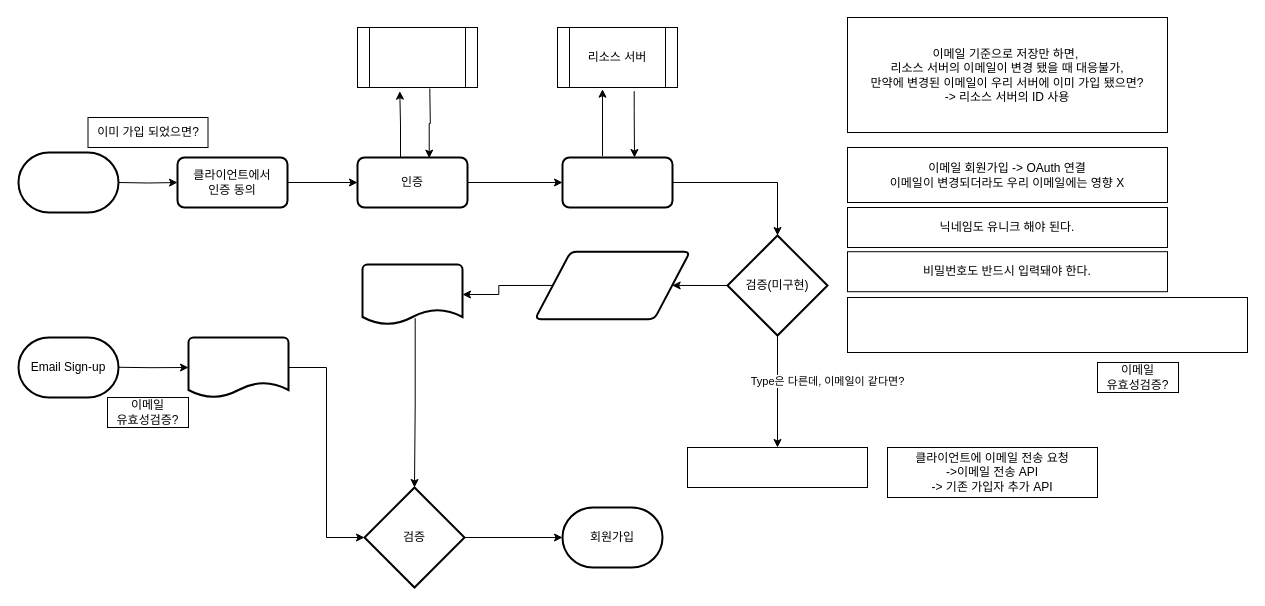
This 1265x606 diagram has some shape labels left out. The centre of each missing label's shape, as x and y in pixels:
"email 사용자 id 리소스 서버 타입" belongs at (612,285).
"OAtuh 회원가입 form" belongs at (412,294).
"OAuth Sign-up" belongs at (68,182).
"동일한 이메일로 가입이 되어있는데 OAuth 회원가입을 하면 안 된다. 문제상황 - 이메일을 임의의 사용자가 먼저 선점했을 경우" belongs at (1047,324).
"바로 이메일 전송 ->기존 가입자 추가하는 API" belongs at (777,467).
"사용자조회" belongs at (617,182).
"인증서버" belongs at (417,57).
"회원가입 form" belongs at (238,367).
